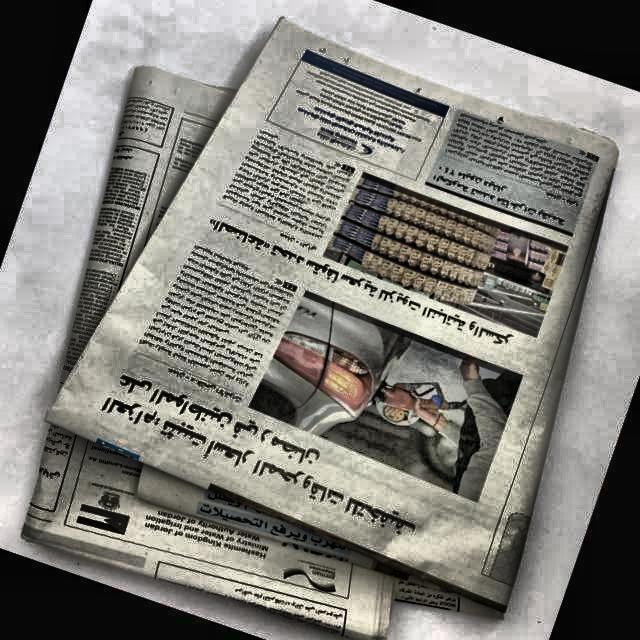cardboard: (47, 18, 618, 607), (23, 68, 606, 640)
